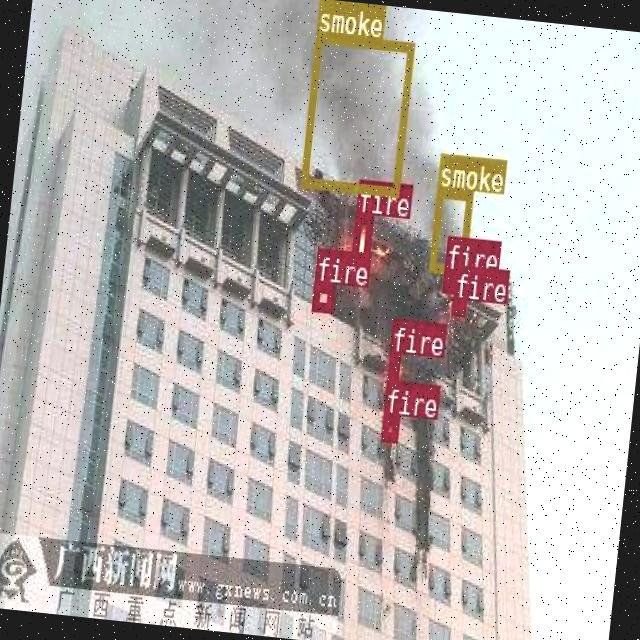fire: (350, 212, 372, 262), (310, 280, 334, 312), (386, 350, 400, 388), (381, 414, 399, 439), (442, 268, 456, 292), (450, 298, 464, 314)
smoke: (300, 31, 413, 194), (427, 187, 472, 273)
